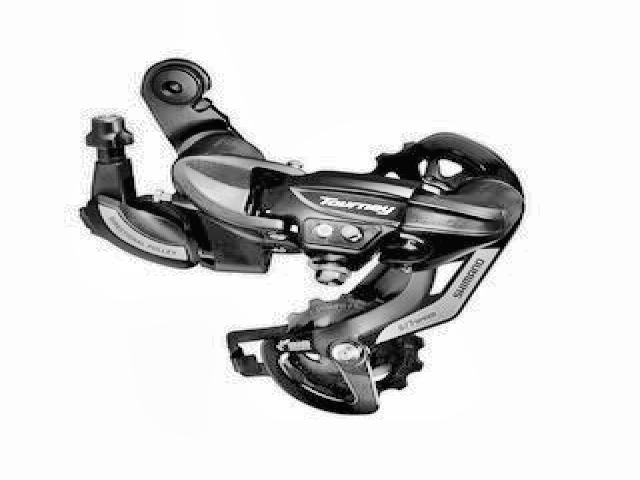rear_derailleur: (73, 54, 530, 416)
